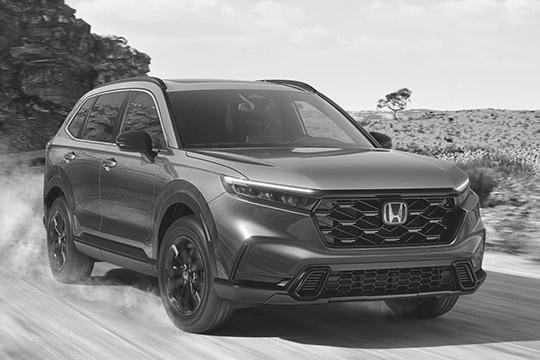Car hood: (187, 144, 471, 191)
Driver-s door - -F-R-: (99, 80, 161, 263)
Fender - -F-R-: (152, 147, 248, 274)
Fender - -R-R-: (43, 146, 66, 195)
Front bumper: (205, 206, 496, 307)
Headlight - -L-: (444, 177, 482, 208)
Headlight - -R-: (217, 171, 327, 218)
Passenger-s door - -R-R-: (54, 84, 100, 252)
Rear bumper: (37, 184, 57, 235)
Rear light - -R-: (38, 136, 52, 163)
Side bumper - -R-: (67, 234, 161, 283)
Side mirror - -L-: (361, 123, 394, 150)
Side mirror - -R-: (111, 127, 160, 165)
